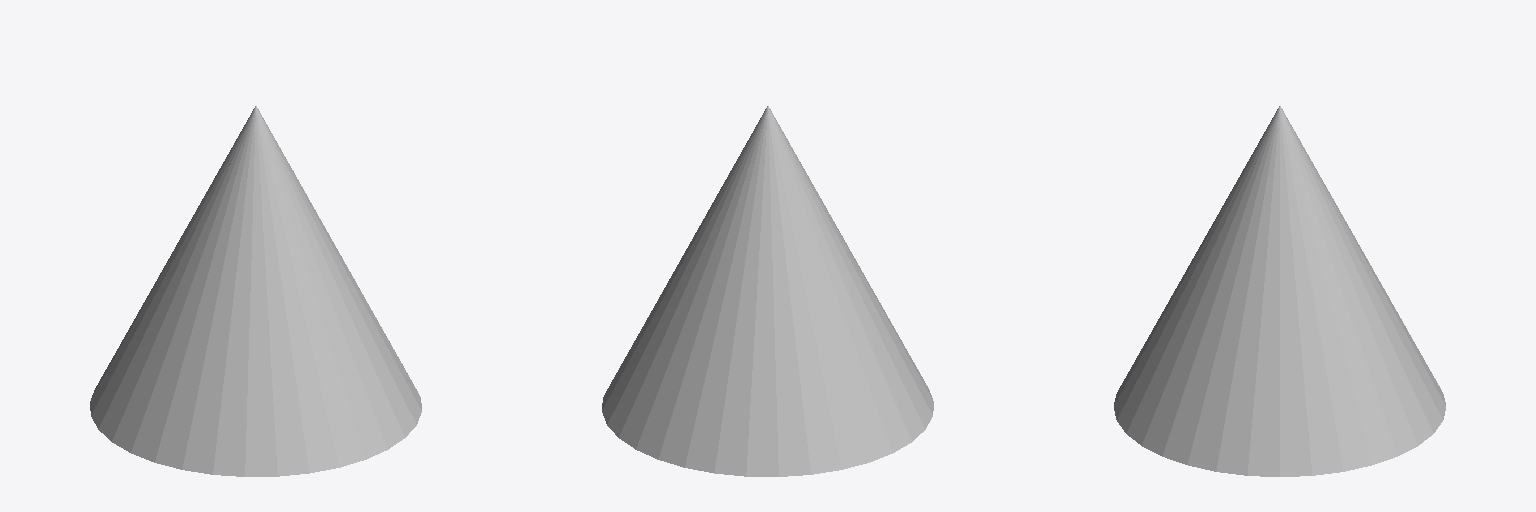
The model's file is arrow.obj.
3 renders of one model, left to right at view 1: azimuth 30°, elevation 25°; view 2: azimuth 150°, elevation 25°; view 3: azimuth 270°, elevation 25°, orthographic.
Visible parts, largest first — view 1: Cone; view 2: Cone; view 3: Cone.
Part boxes in pixels (x1,y1,x2,y2): Cone: (90,106,421,476); Cone: (602,106,933,476); Cone: (1114,106,1445,476).
Bounding box in the file's own units: 0.4 × 0.4 × 0.4.